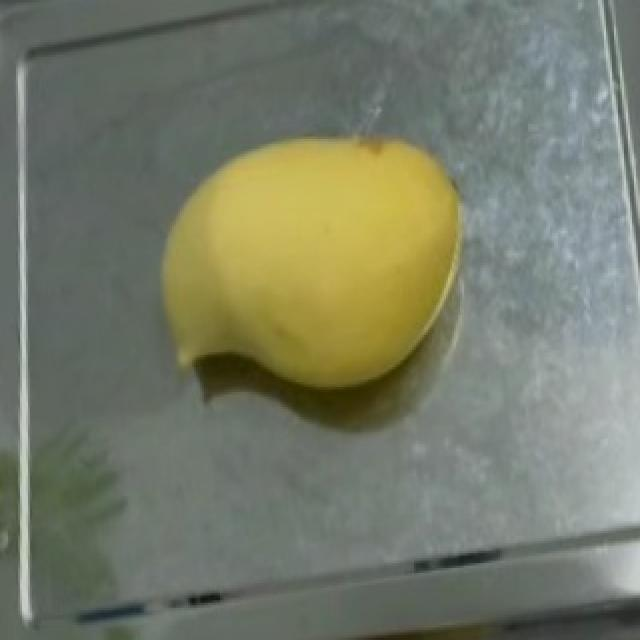fruit: (138, 101, 496, 432)
